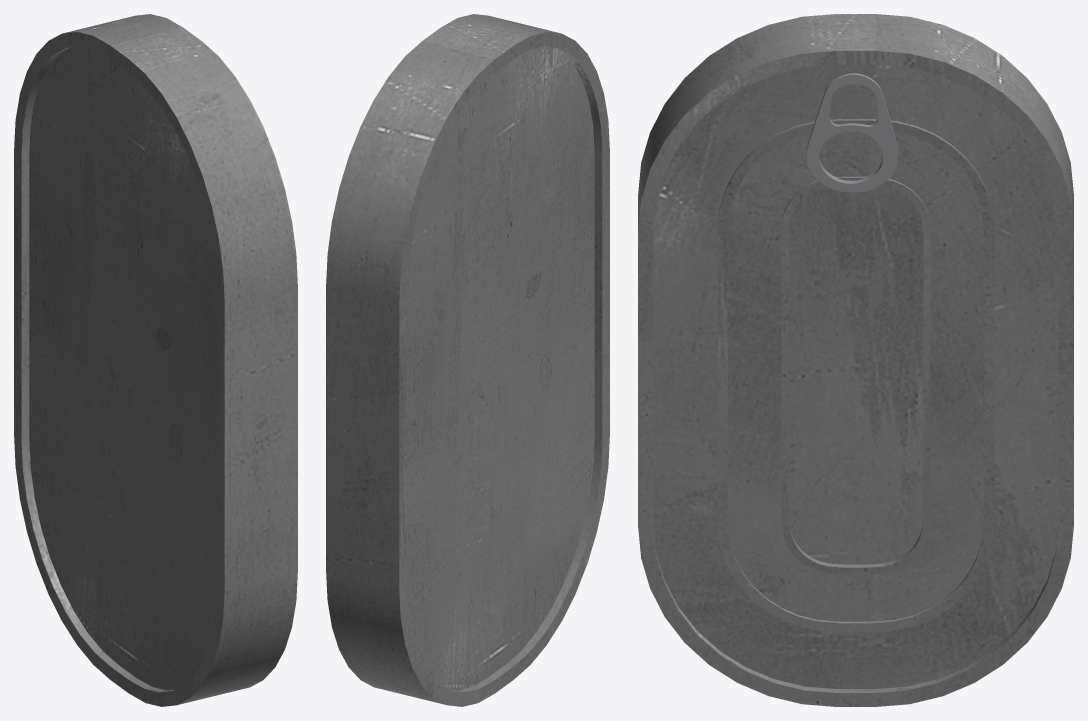
The model's file is canned9.fbx.
The picture shows the model from 3 angles, left to right: view 1: azimuth 30°, elevation 25°; view 2: azimuth 150°, elevation 25°; view 3: azimuth 270°, elevation 25°; orthographic projection. The views are drawn at different scales.
Visible parts, largest first — view 1: canned_9; view 2: canned_9; view 3: canned_9.
Boxes of the visible parts, x1,y1,x2,y2 form: canned_9: (14,14,297,706); canned_9: (326,14,609,706); canned_9: (638,14,1073,706).
Bounding box in the file's own units: 40.7 × 332 × 200.
Materials: 2 (2 with a texture image).
